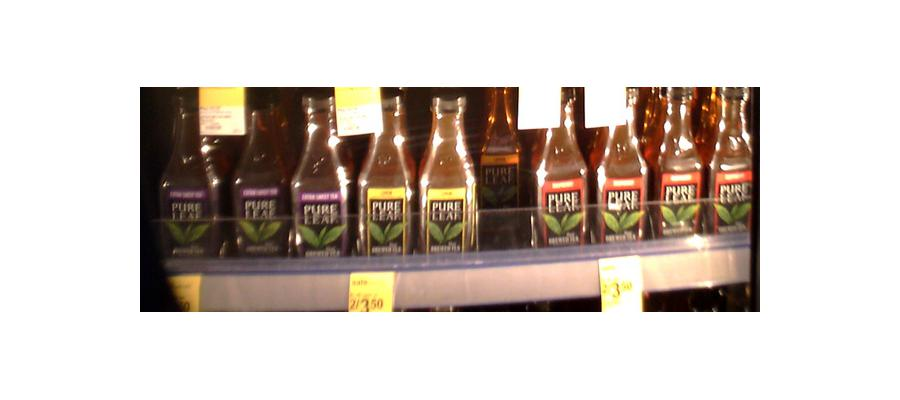bottle: (290, 93, 352, 259), (416, 91, 476, 260), (359, 85, 415, 261), (231, 91, 287, 260), (159, 97, 216, 254), (536, 90, 591, 249), (596, 94, 647, 242), (652, 86, 701, 240), (708, 85, 751, 236), (478, 84, 522, 231)
